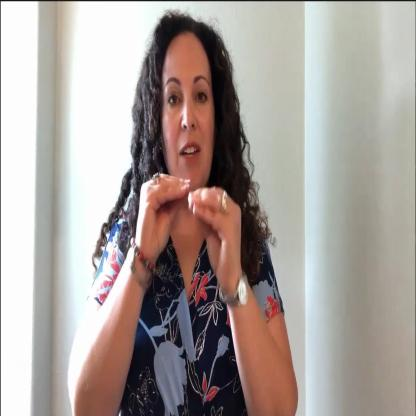Fix: (136, 167, 243, 296)
